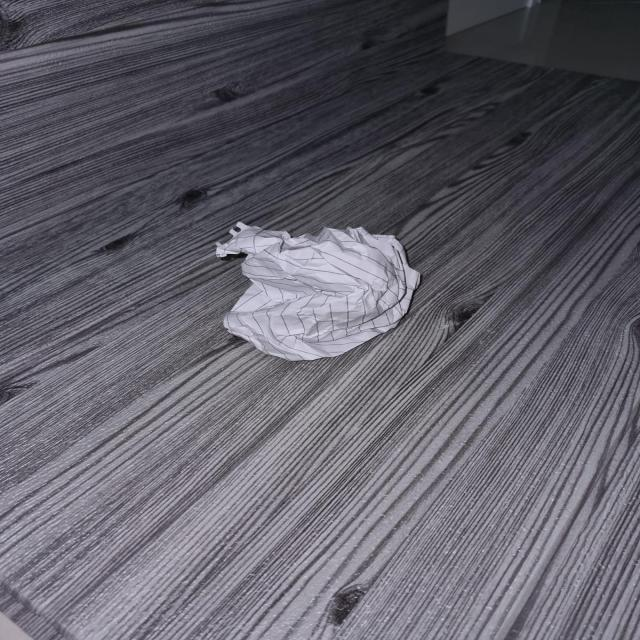paper: (224, 222, 422, 361)
